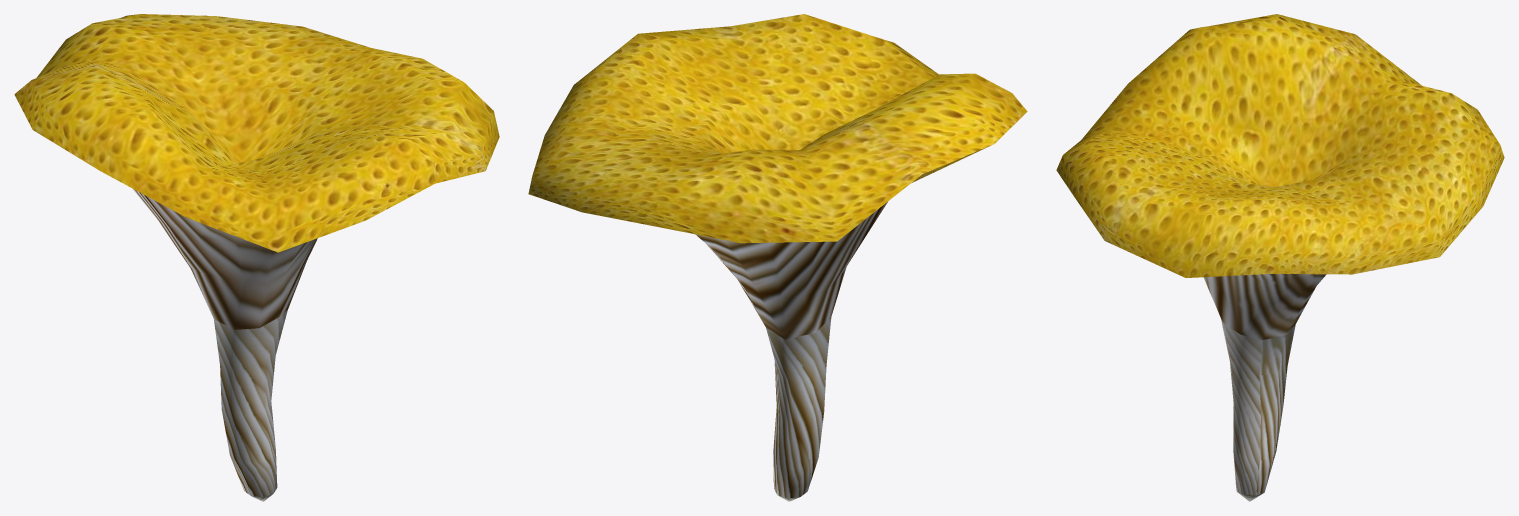
File: chantarela.fbx
3 renders of one model, left to right at view 1: azimuth 30°, elevation 25°; view 2: azimuth 150°, elevation 25°; view 3: azimuth 270°, elevation 25°, orthographic. The views are drawn at different scales.
Parts seen in each view (by area): view 1: chanterelles; view 2: chanterelles; view 3: chanterelles.
Boxes of the visible parts, bbox=[...] form: chanterelles: bbox=[14, 14, 499, 501]; chanterelles: bbox=[528, 14, 1027, 501]; chanterelles: bbox=[1056, 14, 1504, 501].
Bounding box in the file's own units: 61.26 × 61.76 × 61.64.
